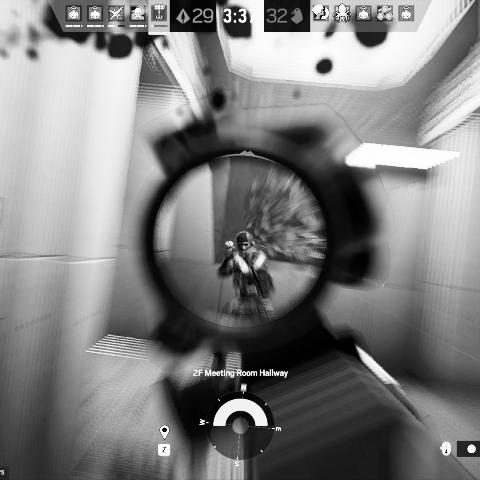Character: (216, 228, 275, 324)
Head: (236, 231, 252, 253)
